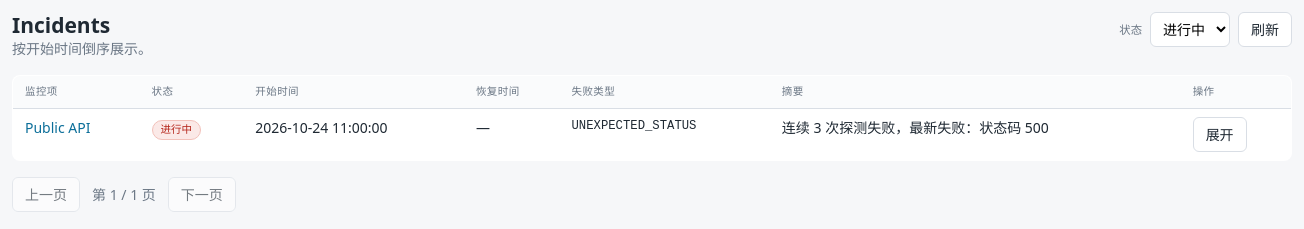
Test: IncidentListView › clears stale rows when a filter change fails
This screenshot has width=1304, height=229.
Select "已恢复" in the dropdown with id "incident-status" at (1190, 30), box [1150,12,1230,47]
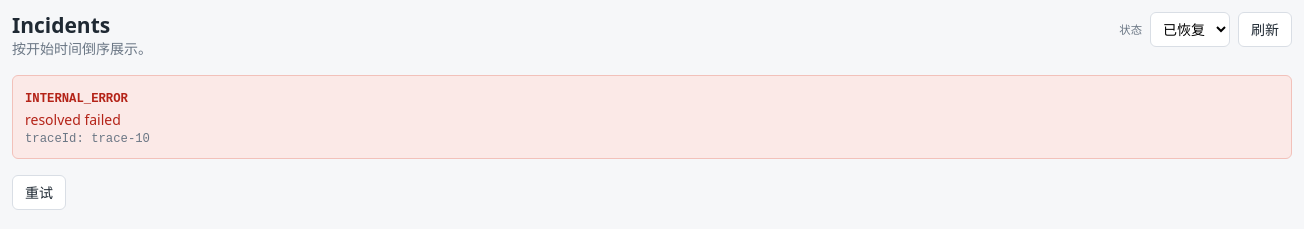
Expected: the text "resolved failed" is shown, [25,110,121,129]
Expected: the text "连续 3 次探测失败" is gone
